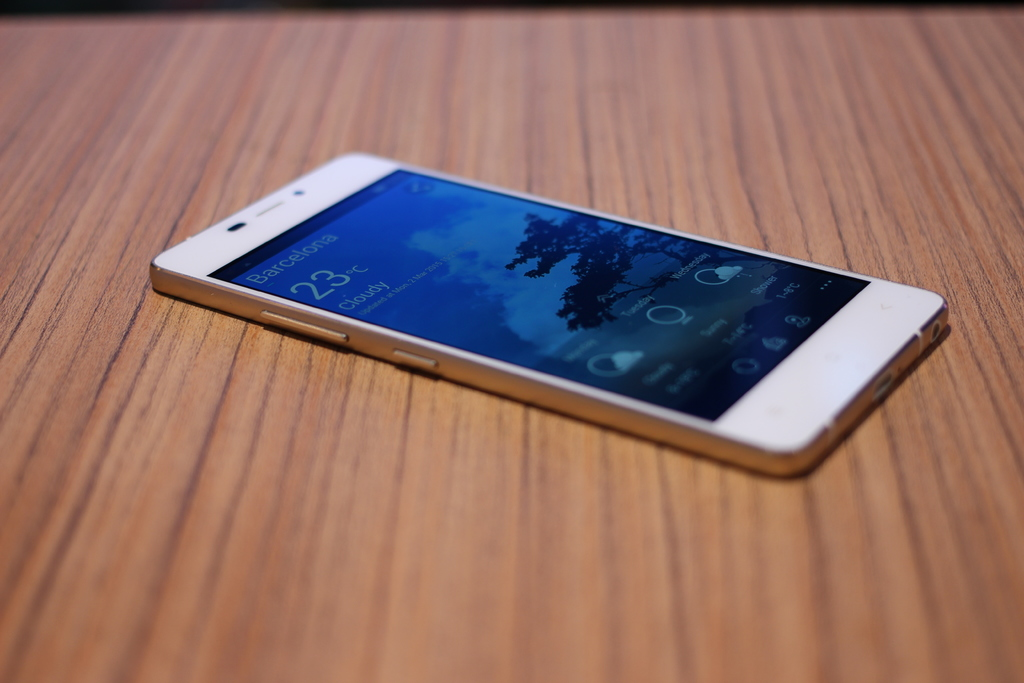mobile phone: (158, 164, 936, 453)
